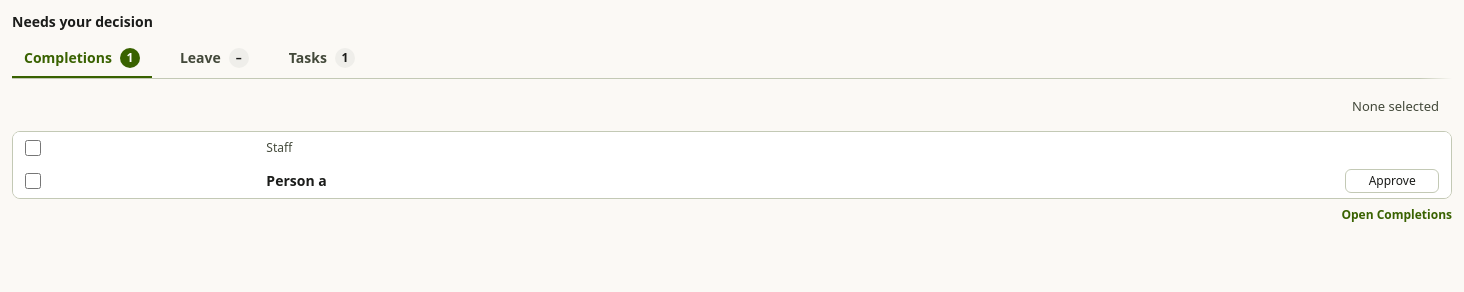
NeedsYourDecision — when the open tab empties (SHAPE §3, §5) › opens the next tab with rows after it, wrapping, and puts focus on that tab
The width and height of the screenshot is (1464, 292).
Click the tab named "Tasks (1)".
click(322, 59)  # box x1=277 y1=40 x2=367 y2=78
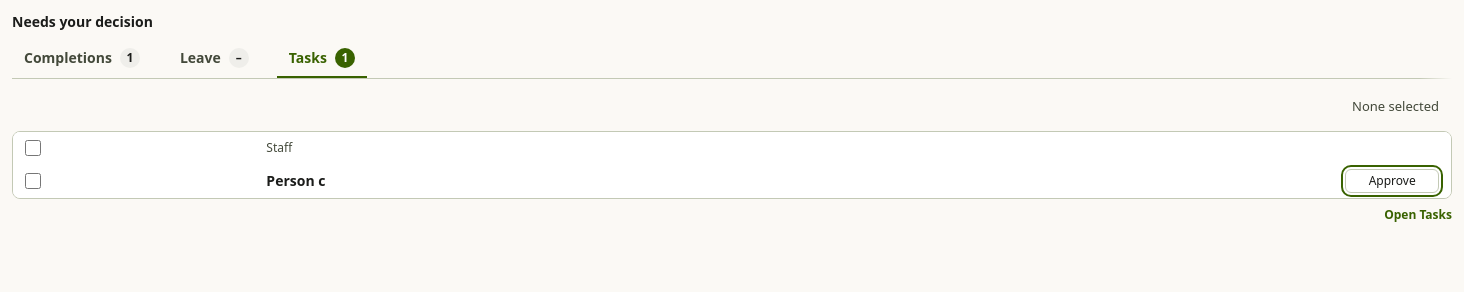
Click the button with aria-label "Approve: Person c".
click(1392, 181)  # box x1=1345 y1=169 x2=1439 y2=193
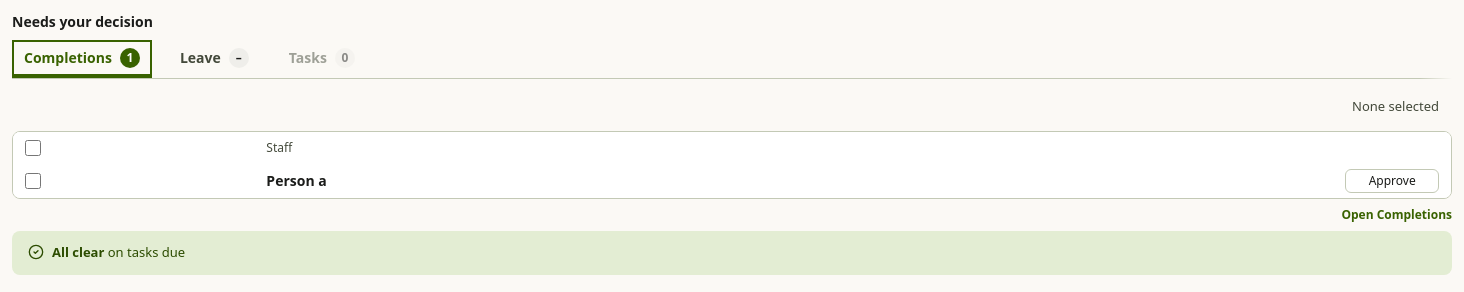
expect the text "Person a" is shown: met, box x1=266 y1=171 x2=327 y2=191
